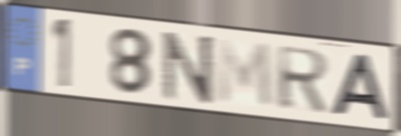1: (49, 16, 74, 94)
8: (108, 27, 154, 97)
A: (327, 52, 393, 124)
M: (215, 36, 275, 112)
N: (161, 29, 216, 106)
R: (275, 44, 332, 115)
